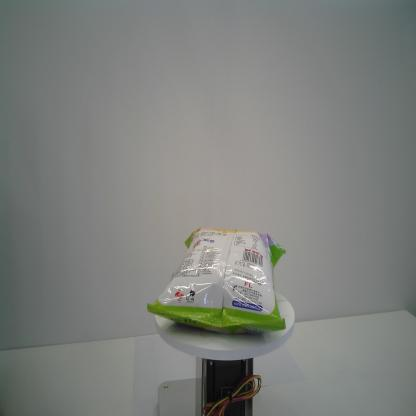Puffed Food: (146, 226, 288, 338)
